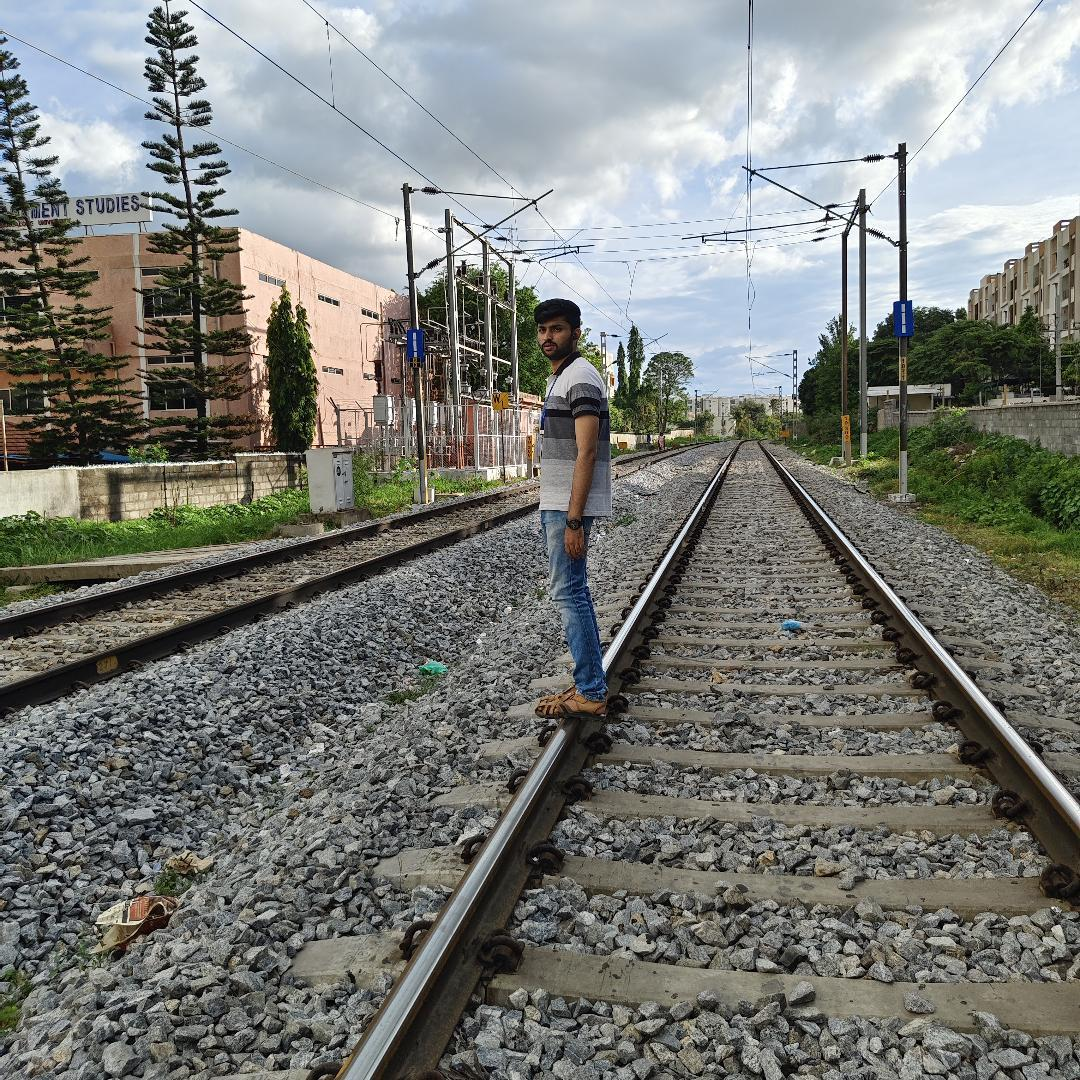standing: (524, 288, 649, 737)
